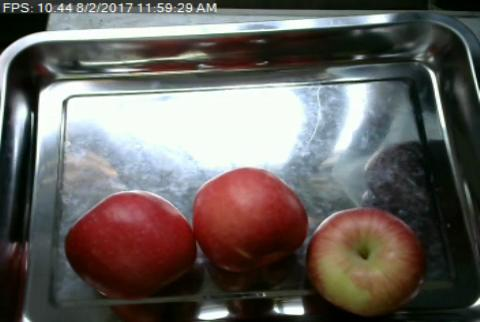apple: (64, 191, 196, 298), (307, 207, 424, 315), (194, 166, 308, 271)
